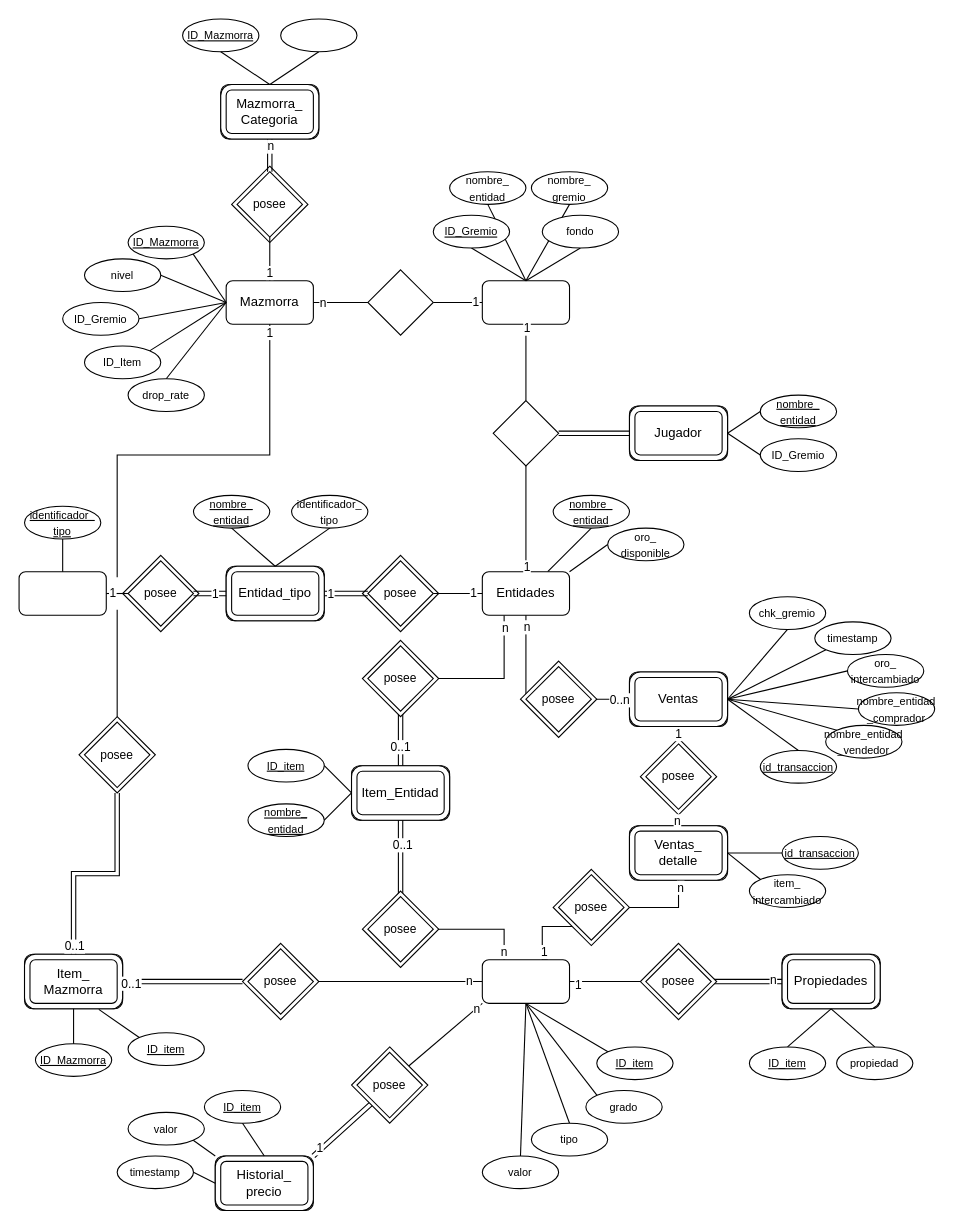
Some shapes in this 955 by 1230 pixel diagram are drawn without their labels. The shapes that lost their labels are listed below. From the top down, each one's centre as x and y in pixels, then its label:
At [318,35]: "categoria".
At [400,302]: "conquistado por".
At [525,302]: "Gremio".
At [525,432]: "pertenece a".
At [62,593]: "Tipo_entidad".
At [525,981]: "Items".
